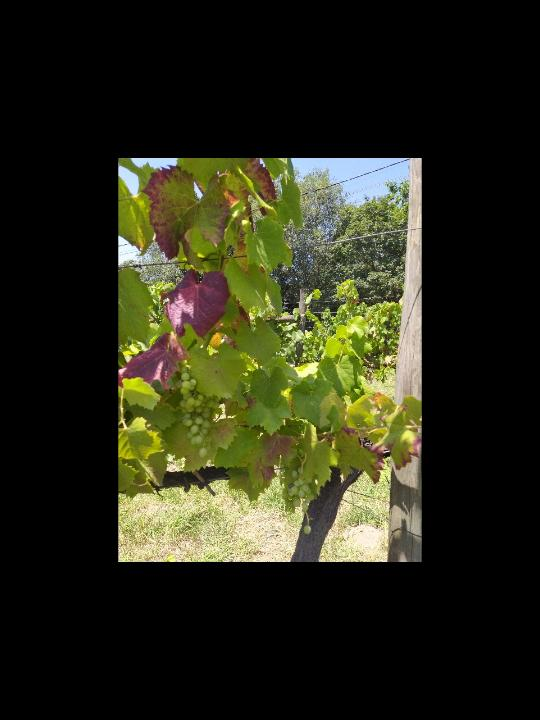grape: (172, 360, 223, 464)
